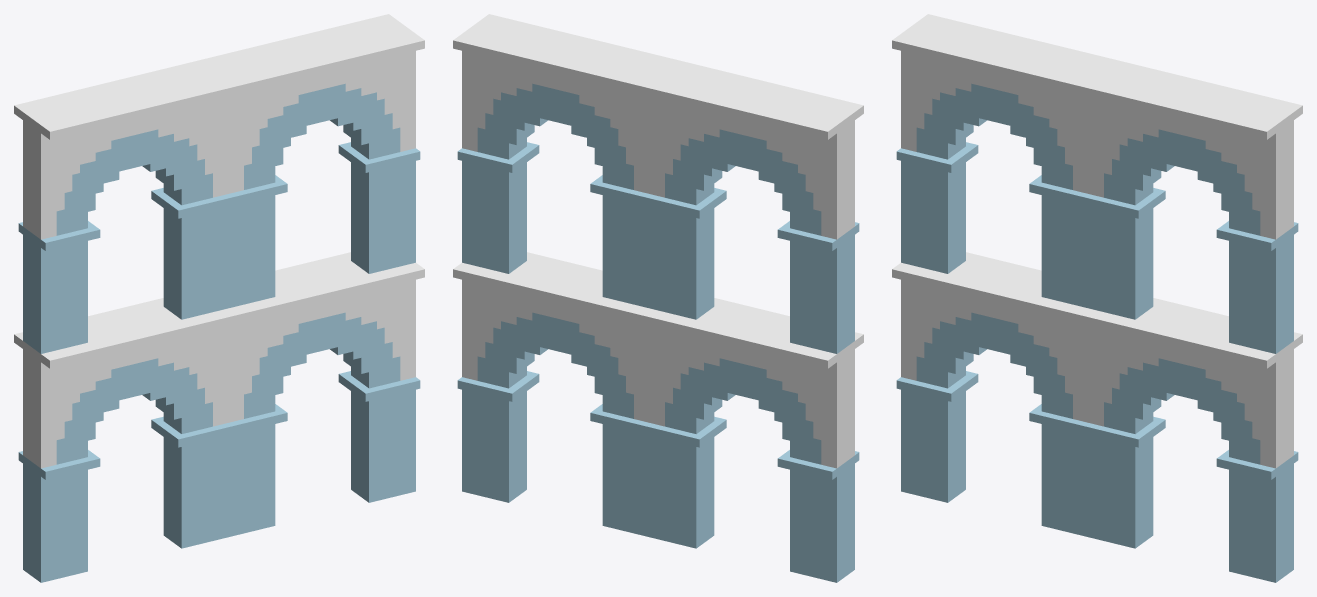
File: nma_back_right_overtile.obj
3 views of the same model, side by side, from view 1: azimuth 30°, elevation 25°; view 2: azimuth 150°, elevation 25°; view 3: azimuth 330°, elevation 25° (orthographic).
Bounding box in the file's own units: 4.8 × 5.6 × 0.8.
1 material, 1 textured.
